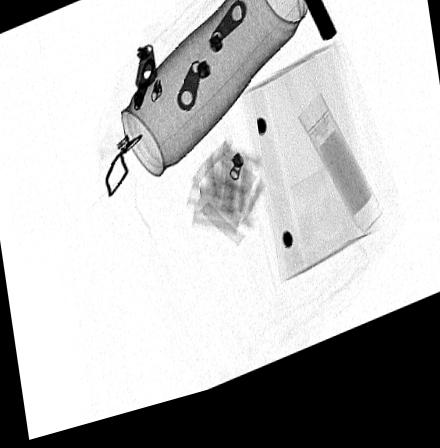Gun: (284, 0, 338, 58)
